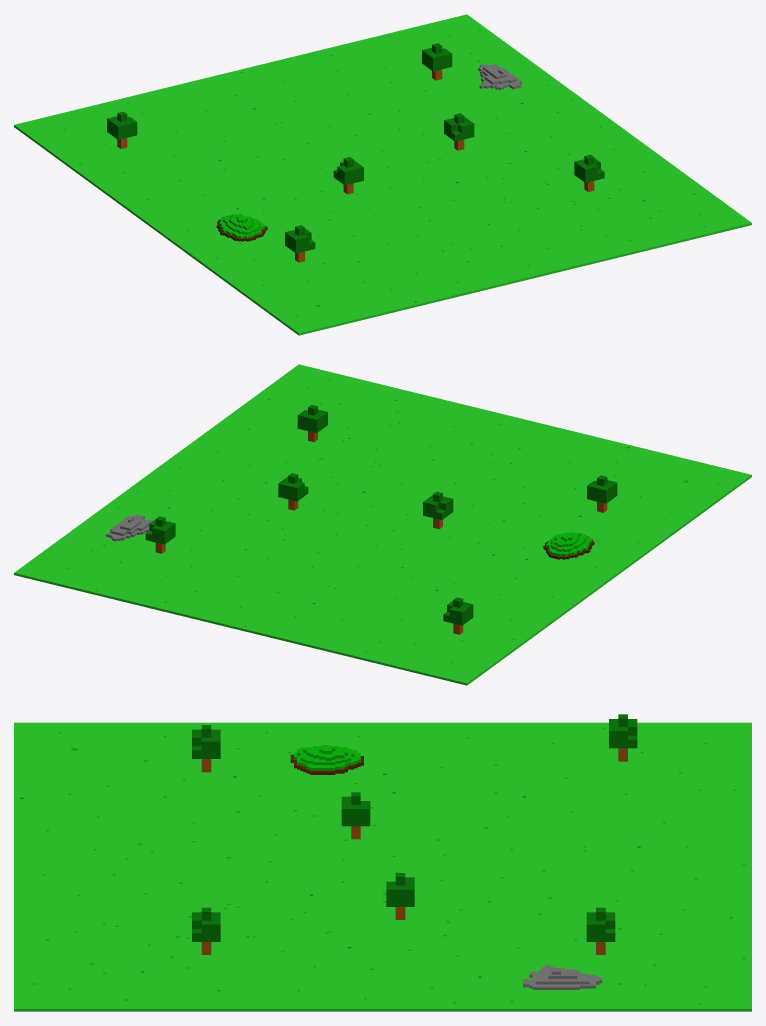
Rendered from GameBackground.obj.
3 renders of one model, top to bottom at view 1: azimuth 30°, elevation 25°; view 2: azimuth 150°, elevation 25°; view 3: azimuth 270°, elevation 25°, orthographic. The views are drawn at different scales.
Size of the model in its own units: 21.3 by 1.6 by 23.2.
Materials: 1 (1 with a texture image).
